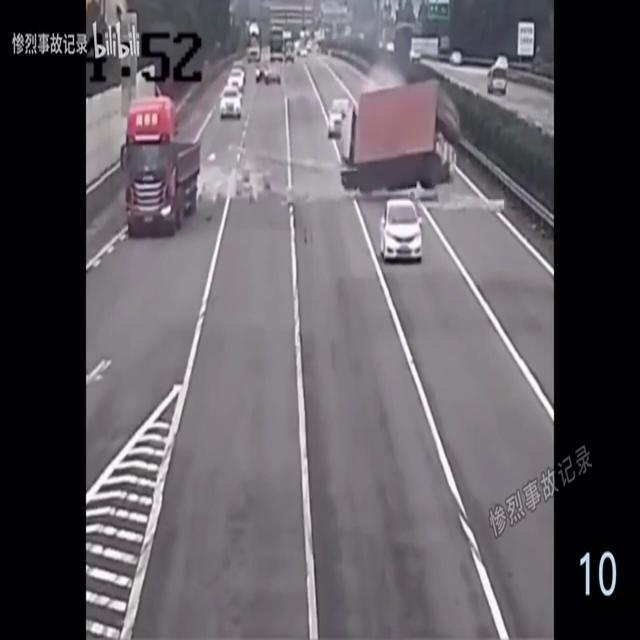accident: (336, 77, 464, 199)
non-accident: (218, 66, 246, 122), (270, 27, 294, 64), (254, 62, 282, 86)
